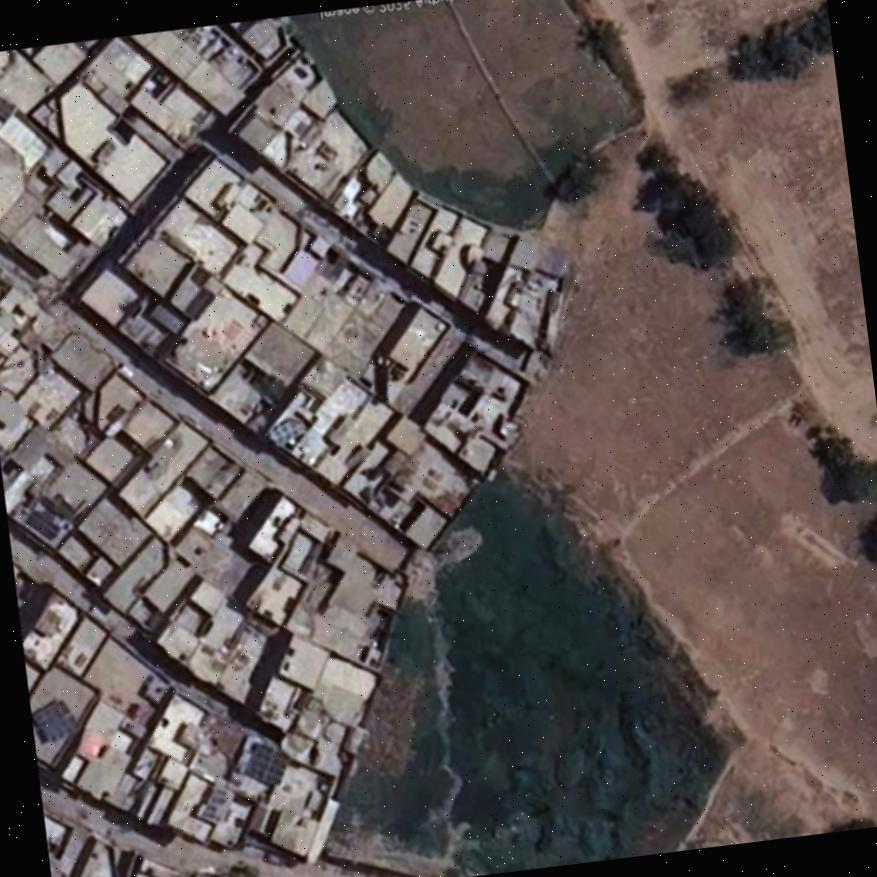Solarpanel: (33, 700, 77, 742), (244, 744, 283, 784)
